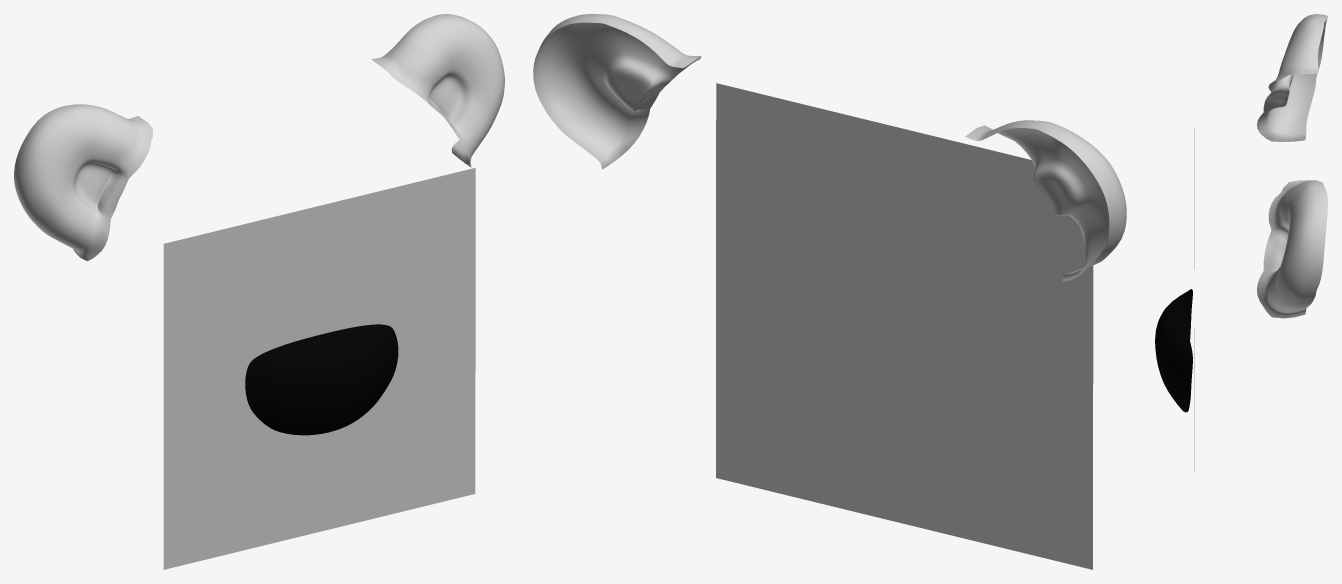
The model's file is Tucha.fbx.
The picture shows the model from 3 angles, left to right: view 1: azimuth 30°, elevation 25°; view 2: azimuth 150°, elevation 25°; view 3: azimuth 270°, elevation 25°; orthographic projection. The views are drawn at different scales.
Visible parts, largest first — view 1: m_Tucha; view 2: m_Tucha; view 3: m_Tucha.
Part boxes in pixels (x1,y1,x2,y2): m_Tucha: (14,14,504,569); m_Tucha: (533,14,1126,569); m_Tucha: (1155,14,1327,470).
Size of the model in its own units: 64.87 by 54.22 by 21.49.
Materials: 2 (1 with a texture image).
